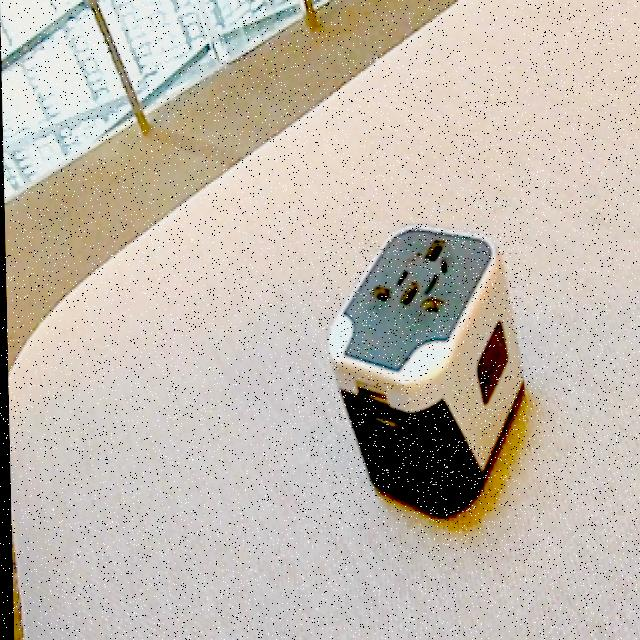adapter: (323, 220, 525, 518)
